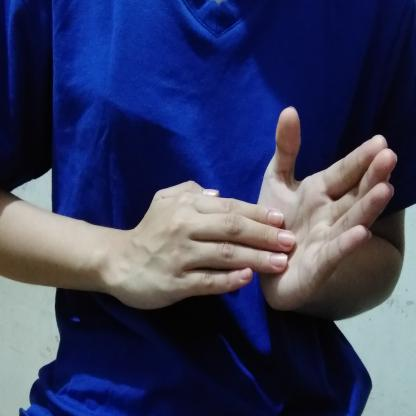mother: (104, 101, 399, 323)
